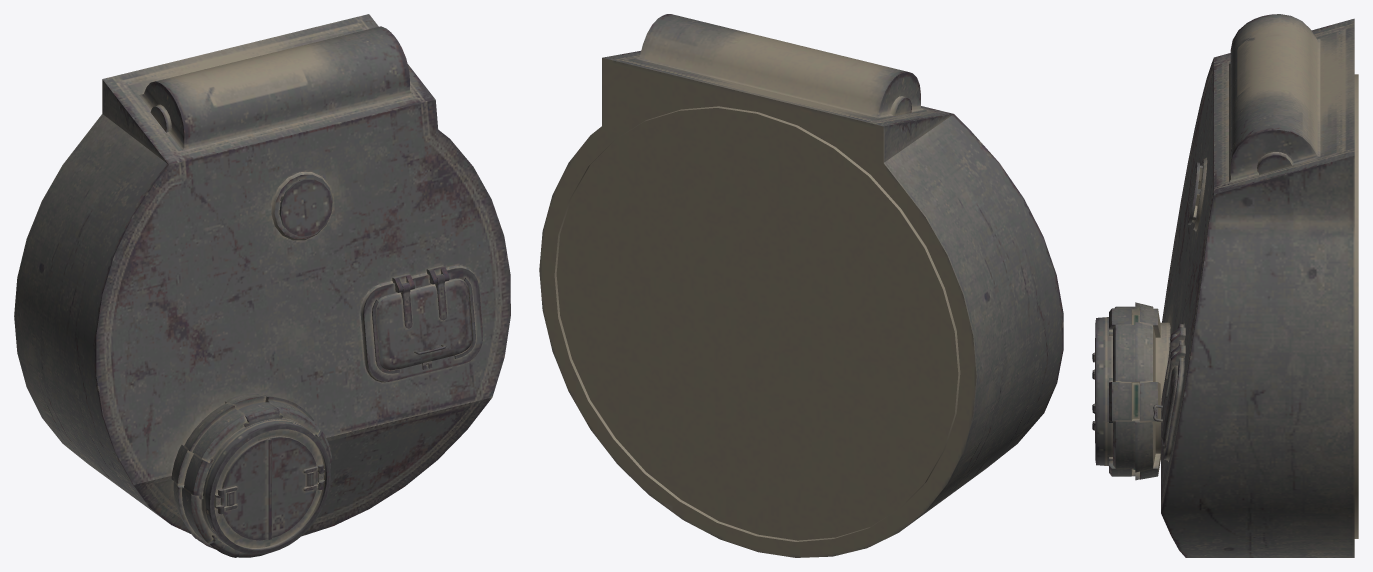
Rendered from Turret_01.glb.
The picture shows the model from 3 angles, left to right: view 1: azimuth 30°, elevation 25°; view 2: azimuth 150°, elevation 25°; view 3: azimuth 270°, elevation 25°; orthographic projection. The views are drawn at different scales.
Parts seen in each view (by area): view 1: set_0_group_0; view 2: set_0_group_0; view 3: set_0_group_0.
Boxes of the visible parts, <box> form: set_0_group_0: <box>14,14,510,557</box>; set_0_group_0: <box>539,14,1063,557</box>; set_0_group_0: <box>1092,14,1358,557</box>.
Bounding box in the file's own units: 2.42 × 2.5 × 1.28.
Materials: 1 (1 with a texture image).
